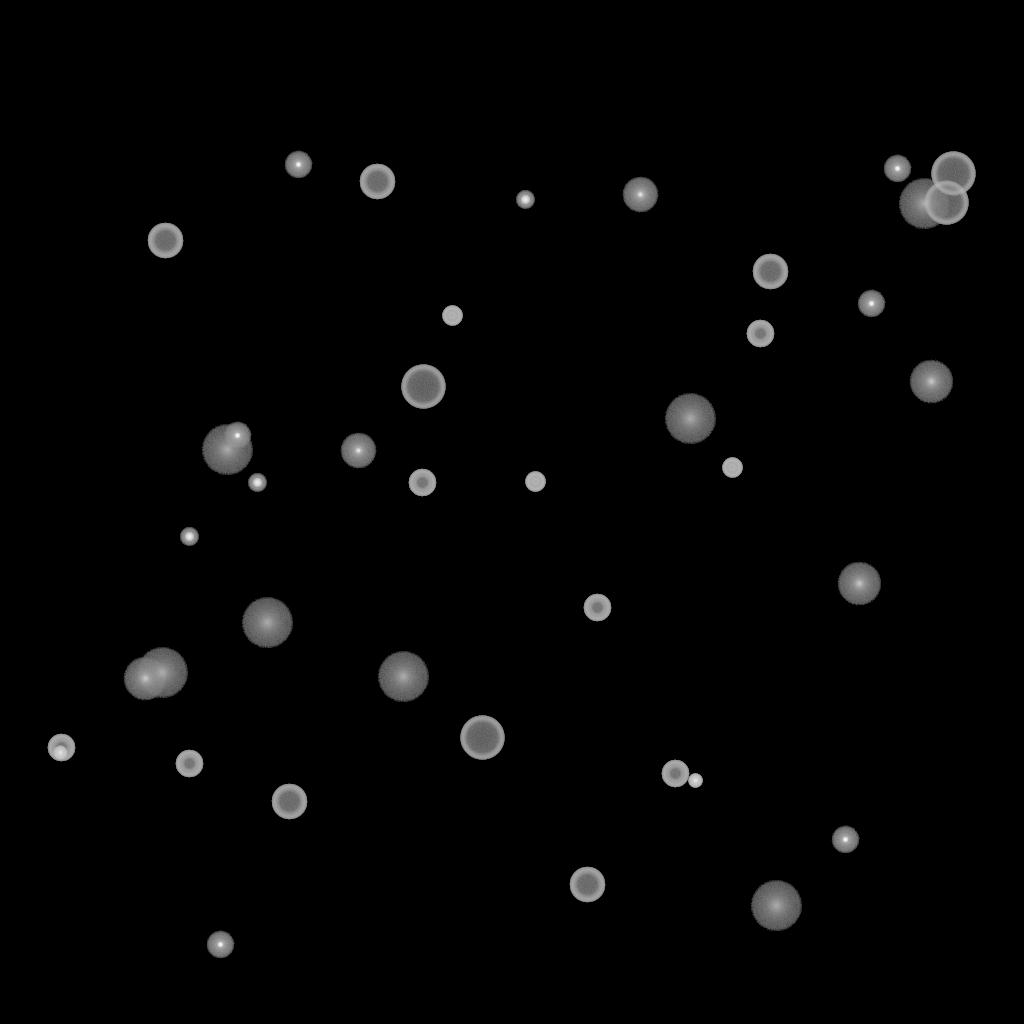depth:-10: (284, 151, 312, 179), (831, 826, 859, 854), (223, 422, 251, 450), (883, 155, 911, 183), (857, 290, 885, 318), (206, 931, 234, 959)
depth:-20: (180, 528, 198, 546), (248, 474, 266, 492), (516, 191, 534, 209)
depth:-30: (53, 746, 67, 760), (688, 774, 702, 788)
depth:-40: (722, 458, 742, 478), (525, 472, 545, 492), (442, 306, 462, 326)
depth:-50: (746, 320, 774, 348), (408, 469, 436, 497), (583, 594, 611, 622), (47, 734, 75, 762), (661, 760, 689, 788), (175, 750, 203, 778)
depth:-60: (359, 164, 395, 200), (147, 223, 183, 259), (271, 784, 307, 820), (752, 254, 788, 290), (569, 867, 605, 903)
depth:-70: (924, 181, 968, 225), (401, 365, 445, 409), (460, 716, 504, 760), (931, 152, 975, 196)
depth:0: (340, 433, 376, 469), (622, 177, 658, 213)
depth:10: (837, 562, 881, 606), (909, 360, 953, 404), (123, 657, 167, 701)
depth:20: (241, 598, 293, 648), (664, 394, 716, 444), (201, 425, 253, 475), (750, 881, 802, 931), (898, 179, 950, 229), (136, 648, 188, 698), (377, 652, 429, 702)
